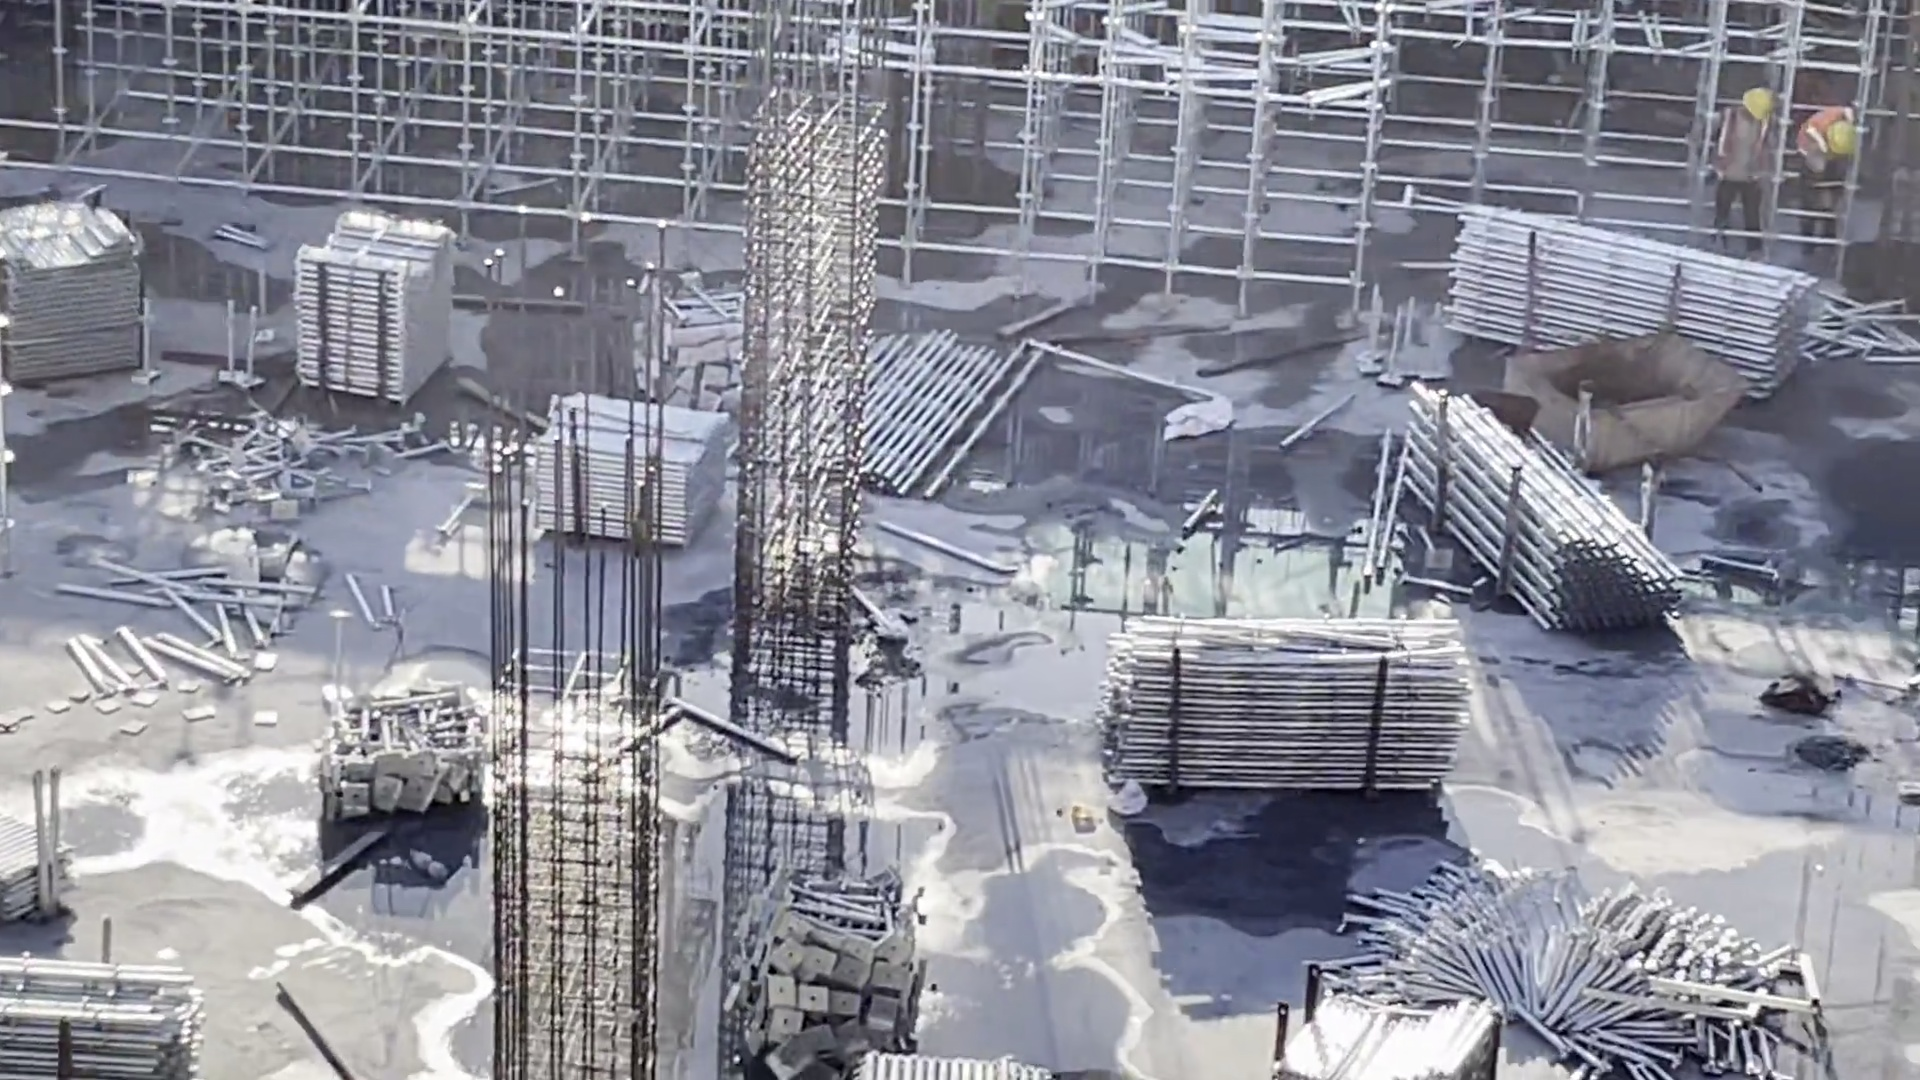helmet: (1833, 123, 1867, 163), (1743, 80, 1766, 124)
hopper: (1503, 322, 1755, 469)
person: (1721, 90, 1801, 256), (1803, 97, 1859, 287)
scaffold: (1400, 868, 1819, 1059), (1396, 368, 1654, 630), (1105, 613, 1454, 803), (1437, 195, 1790, 378), (1, 181, 161, 396), (538, 387, 745, 549), (304, 204, 450, 387), (1262, 983, 1518, 1080), (330, 680, 500, 804), (1, 950, 205, 1051), (744, 916, 928, 1026), (638, 262, 767, 412), (196, 424, 325, 542), (1, 764, 75, 914), (834, 1035, 1055, 1080)
vest: (1725, 105, 1780, 182), (1813, 96, 1848, 149)
